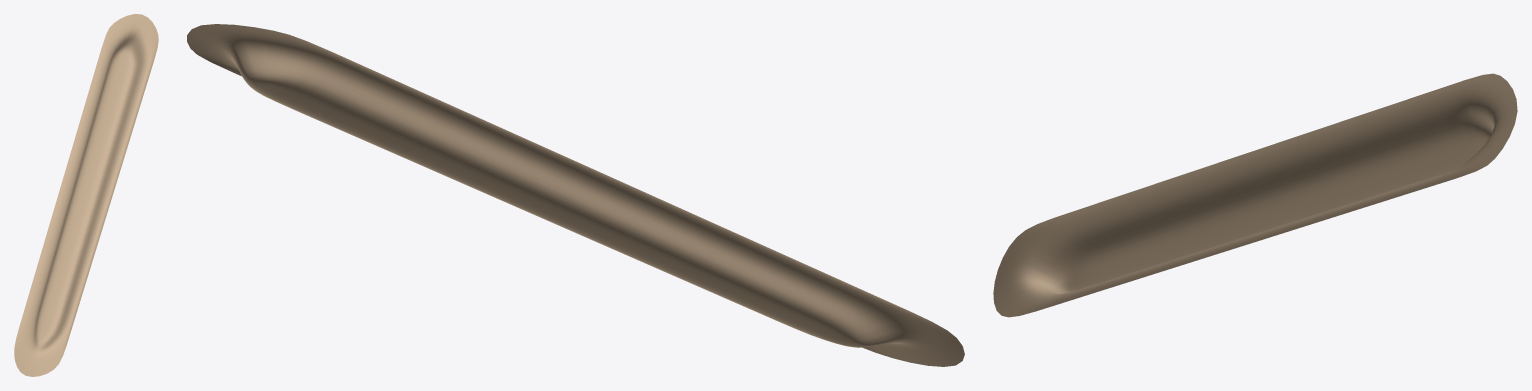
The picture shows the model from 3 angles, left to right: view 1: azimuth 30°, elevation 25°; view 2: azimuth 150°, elevation 25°; view 3: azimuth 270°, elevation 25°; orthographic projection. The views are drawn at different scales.
Parts seen in each view (by area): view 1: peak_kaaj_wide1; view 2: peak_kaaj_wide1; view 3: peak_kaaj_wide1.
Boxes of the visible parts, left/top/right/bottom form: peak_kaaj_wide1: left=14, top=14, right=158, bottom=376; peak_kaaj_wide1: left=187, top=24, right=964, bottom=366; peak_kaaj_wide1: left=993, top=73, right=1517, bottom=317.
Bounding box in the file's own units: 0.00155 × 0.00119 × 0.00133.
